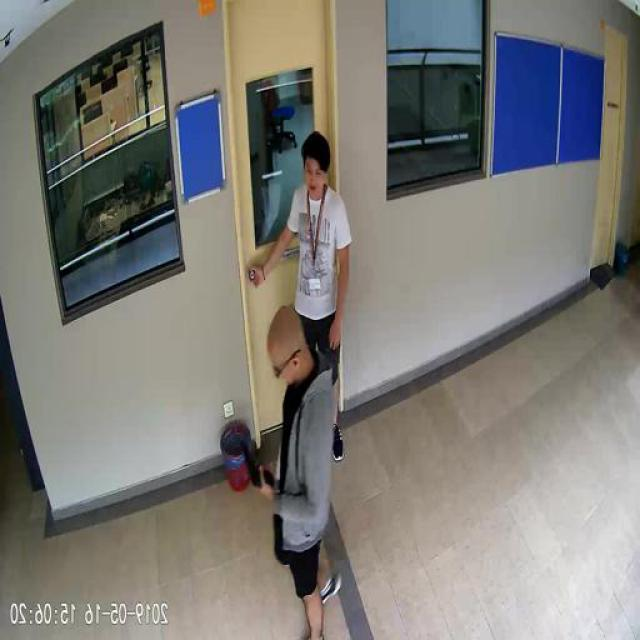Gun: (242, 440, 276, 490)
